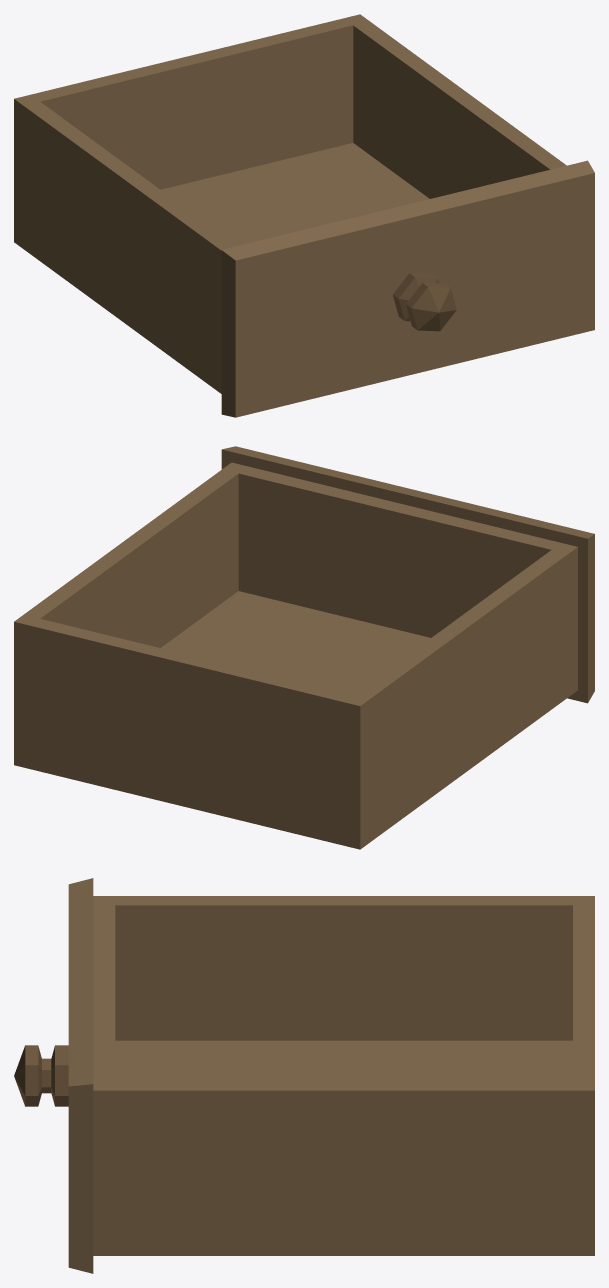
File: kingdom_SM_Prop_Wardrobe_02_Drawer_1.gltf
The picture shows the model from 3 angles, top to bottom: view 1: azimuth 30°, elevation 25°; view 2: azimuth 150°, elevation 25°; view 3: azimuth 270°, elevation 25°; orthographic projection. The views are drawn at different scales.
Visible parts, largest first — view 1: SM_Prop_Wardrobe_02_Drawer_1; view 2: SM_Prop_Wardrobe_02_Drawer_1; view 3: SM_Prop_Wardrobe_02_Drawer_1.
Boxes of the visible parts, <box> form: SM_Prop_Wardrobe_02_Drawer_1: <box>14,14,594,417</box>; SM_Prop_Wardrobe_02_Drawer_1: <box>14,446,594,849</box>; SM_Prop_Wardrobe_02_Drawer_1: <box>14,878,594,1273</box>.
Bounding box in the file's own units: 0.618 × 0.2653 × 0.7361.
Materials: 1 (1 with a texture image).
